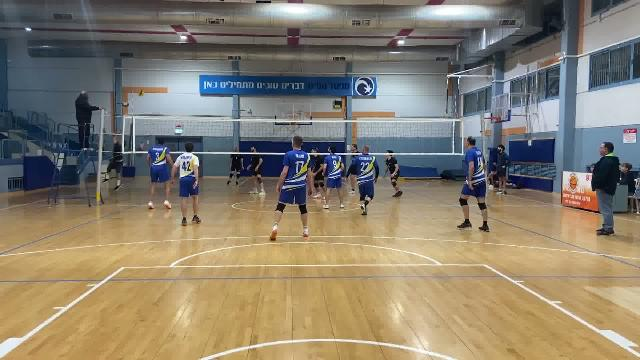ball: (139, 87, 147, 99)
